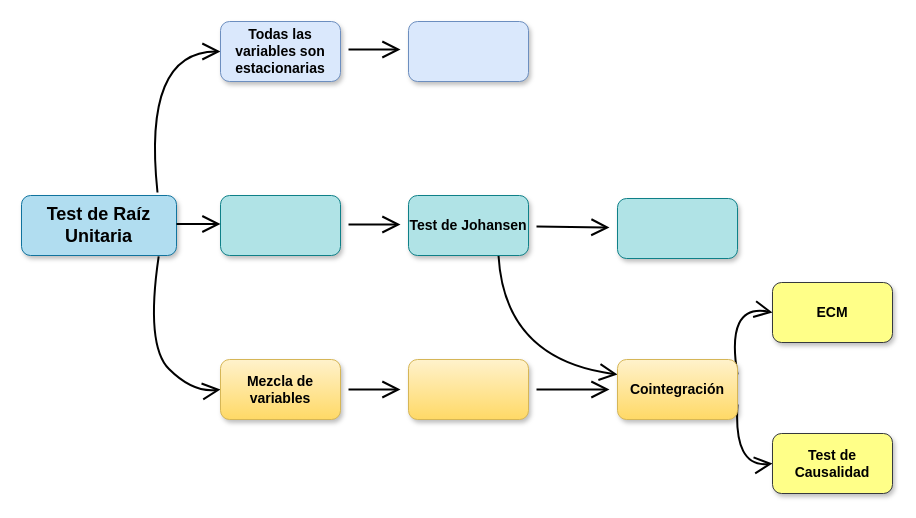
This 916x518 diagram has some shape labels left out. Here are the shapes that lost their labels. From the top down, the centre of each, then its label:
the point at 469,52: Modelos MCO/VAR
the point at 281,226: Todas las variables son no estacionarias
the point at 678,230: No Cointegración
the point at 469,390: Modelos ARDL
